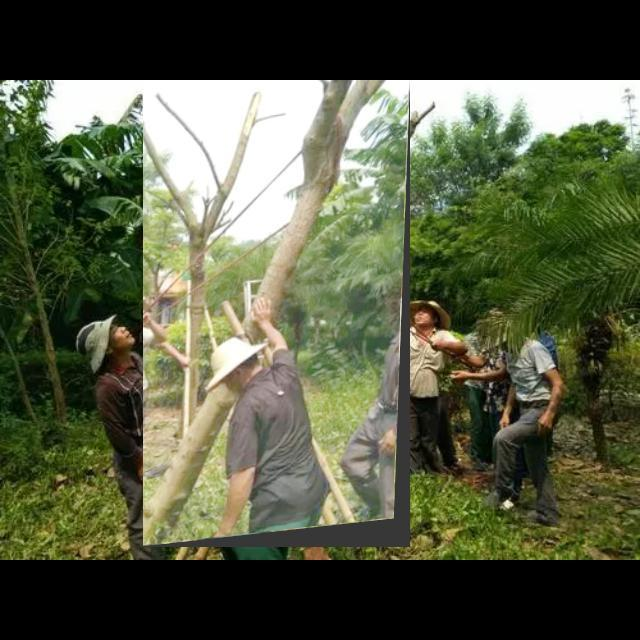fallen_tree: (143, 80, 411, 548)
